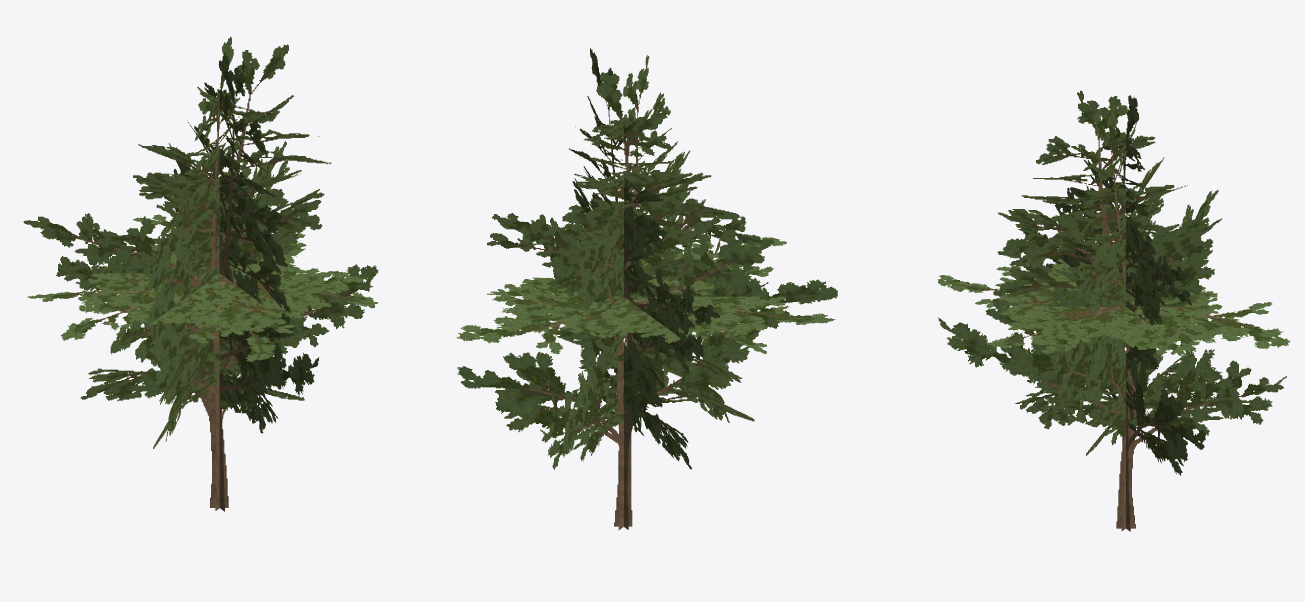
3 views of the same model, side by side, from view 1: azimuth 30°, elevation 25°; view 2: azimuth 150°, elevation 25°; view 3: azimuth 270°, elevation 25° (orthographic). The views are drawn at different scales.
Visible parts, largest first — view 1: Pine_small_1_Billboard_LOD3_Pine_small_1_Billboard_Mat_0; view 2: Pine_small_1_Billboard_LOD3_Pine_small_1_Billboard_Mat_0; view 3: Pine_small_1_Billboard_LOD3_Pine_small_1_Billboard_Mat_0.
Boxes of the visible parts, bbox=[...] form: Pine_small_1_Billboard_LOD3_Pine_small_1_Billboard_Mat_0: bbox=[23, 36, 378, 511]; Pine_small_1_Billboard_LOD3_Pine_small_1_Billboard_Mat_0: bbox=[456, 48, 837, 529]; Pine_small_1_Billboard_LOD3_Pine_small_1_Billboard_Mat_0: bbox=[938, 90, 1290, 531].
Size of the model in its own units: 3.09 by 4.31 by 3.15.
